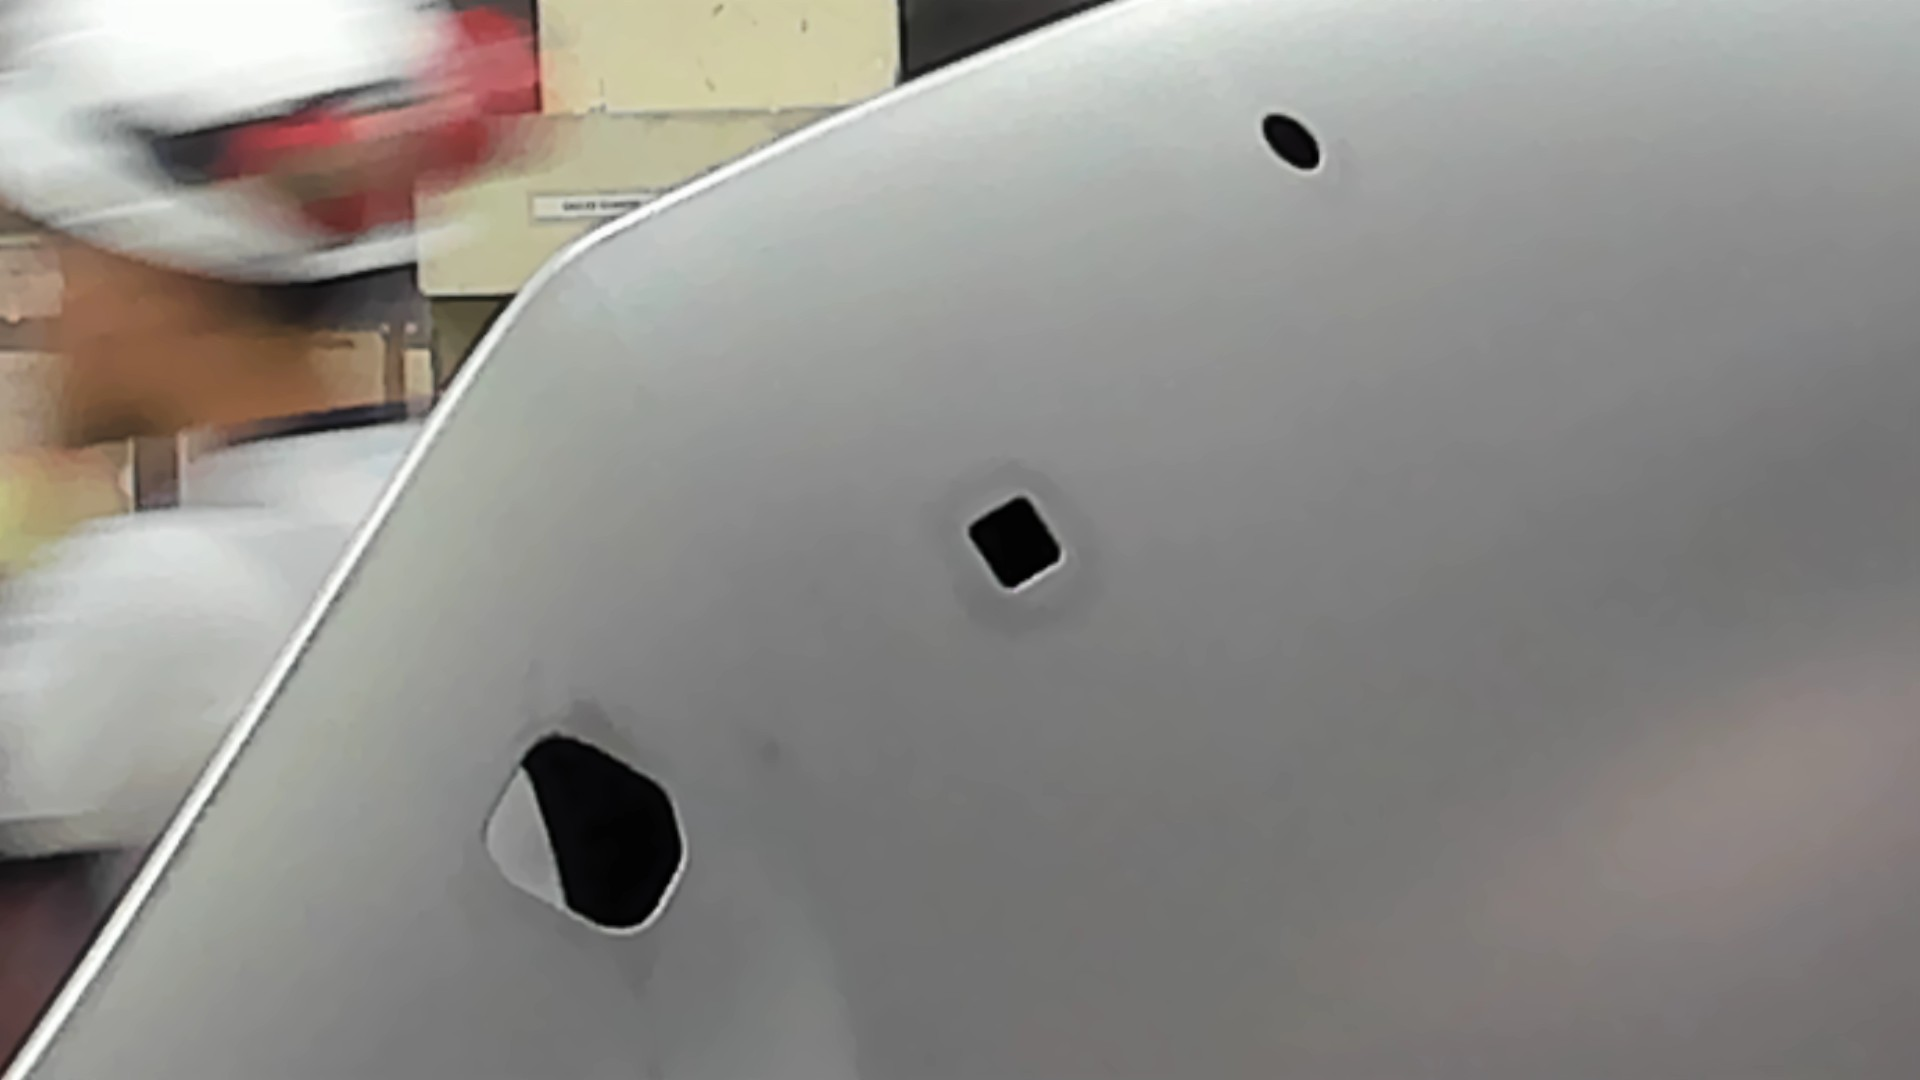capo: (1071, 183, 1920, 1080)
chico: (1257, 105, 1328, 175)
grande: (477, 724, 691, 942)
mediano: (960, 487, 1069, 596)
